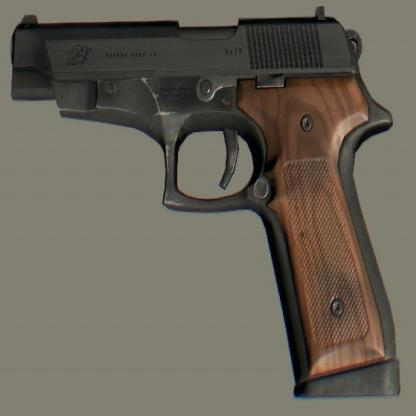Pistol: (12, 13, 404, 398)
